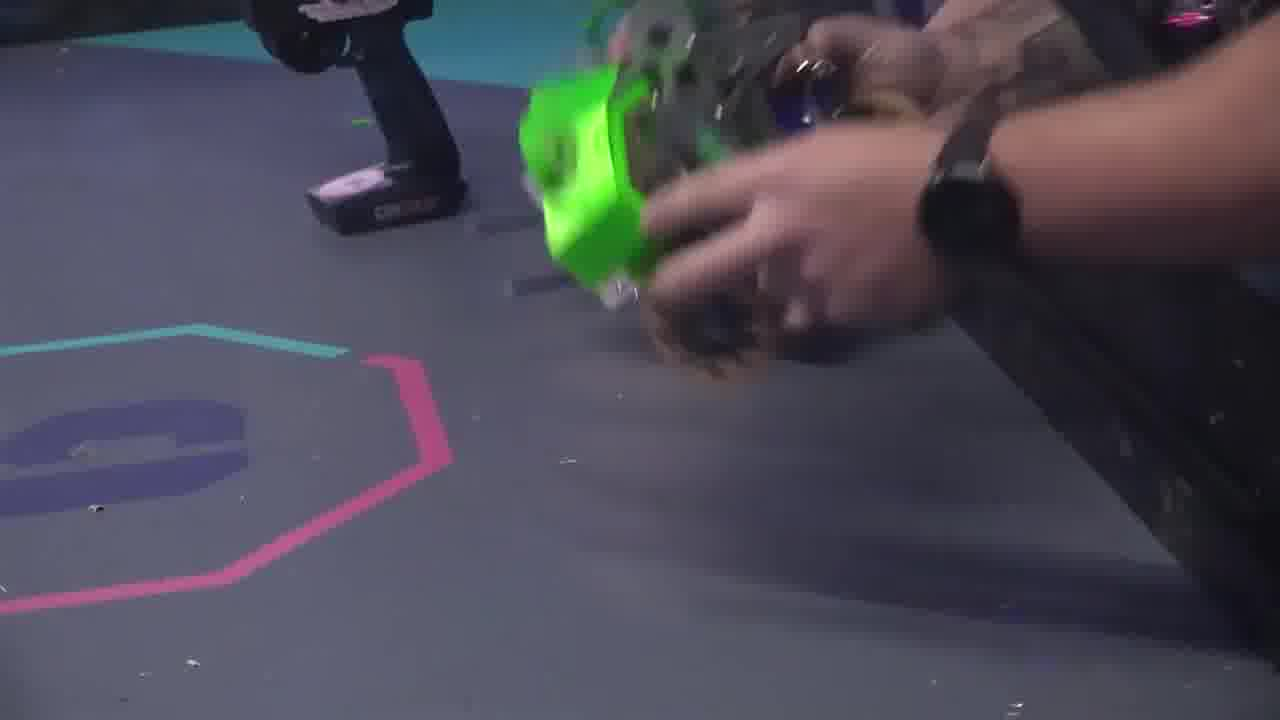combatbot: (515, 4, 859, 378)
